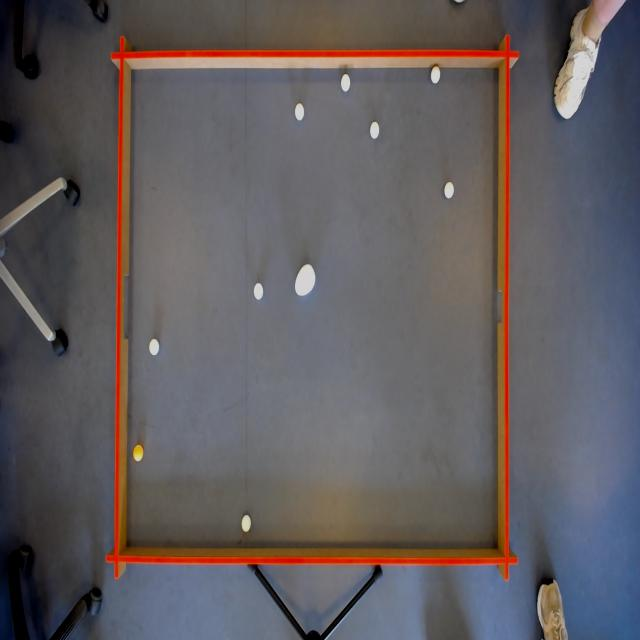egg: (292, 261, 318, 300)
orange_ball: (132, 444, 145, 465)
white_ball: (338, 70, 352, 95), (252, 279, 266, 303), (442, 179, 456, 203), (148, 335, 161, 359), (240, 512, 253, 536), (368, 119, 381, 141), (429, 64, 442, 86), (294, 101, 306, 123)
